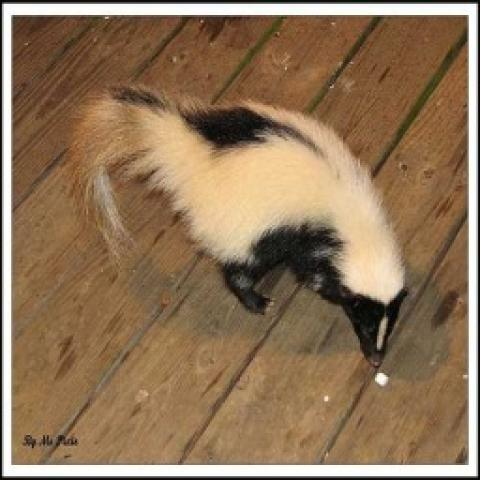small_animal: (88, 79, 410, 374)
